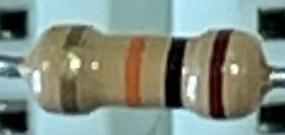Black: (164, 36, 189, 112)
Brown: (206, 27, 231, 120)
Orange: (124, 35, 145, 106)
Side-Gold: (60, 26, 87, 116)
